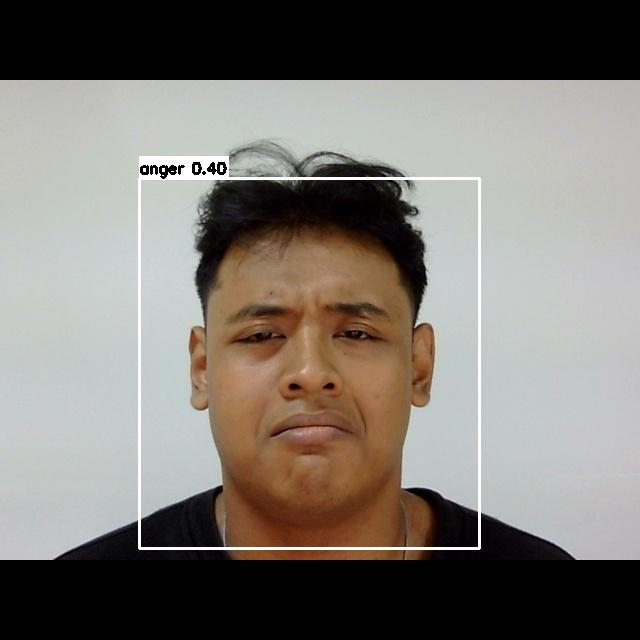Sad: (208, 286, 425, 488)
